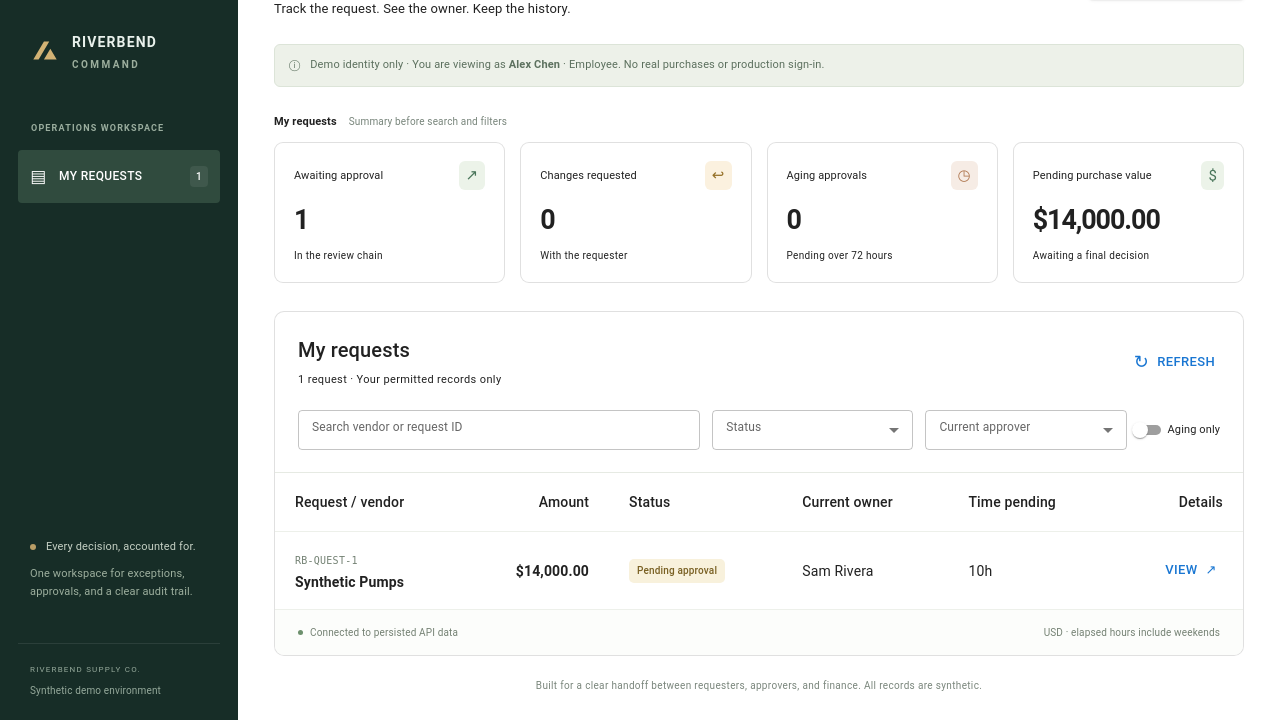
Test: keeps nested editor focus in the drawer after cancellation
(page scrolled)
Click the button with aria-label "View Synthetic Pumps request". click: x=1191, y=571
box: [1159, 555, 1223, 586]
(page scrolled)
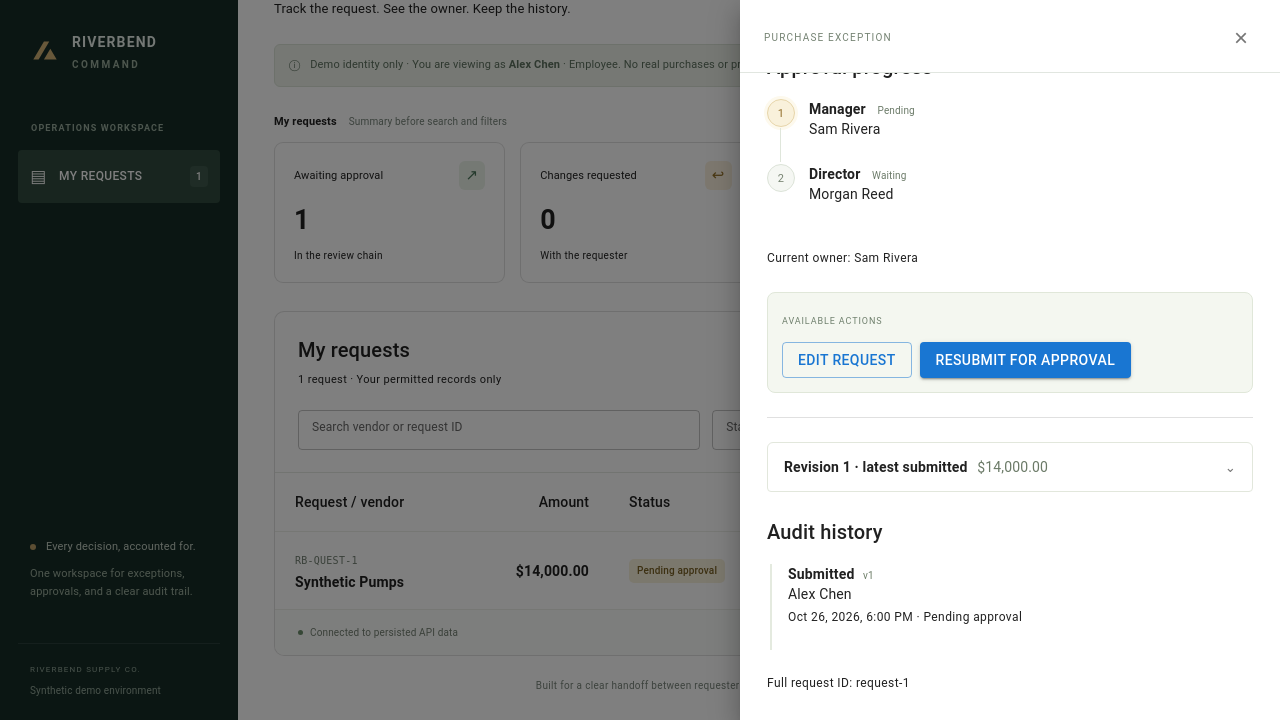
Click the button "Edit request". click: x=847, y=360
box: [782, 342, 912, 378]
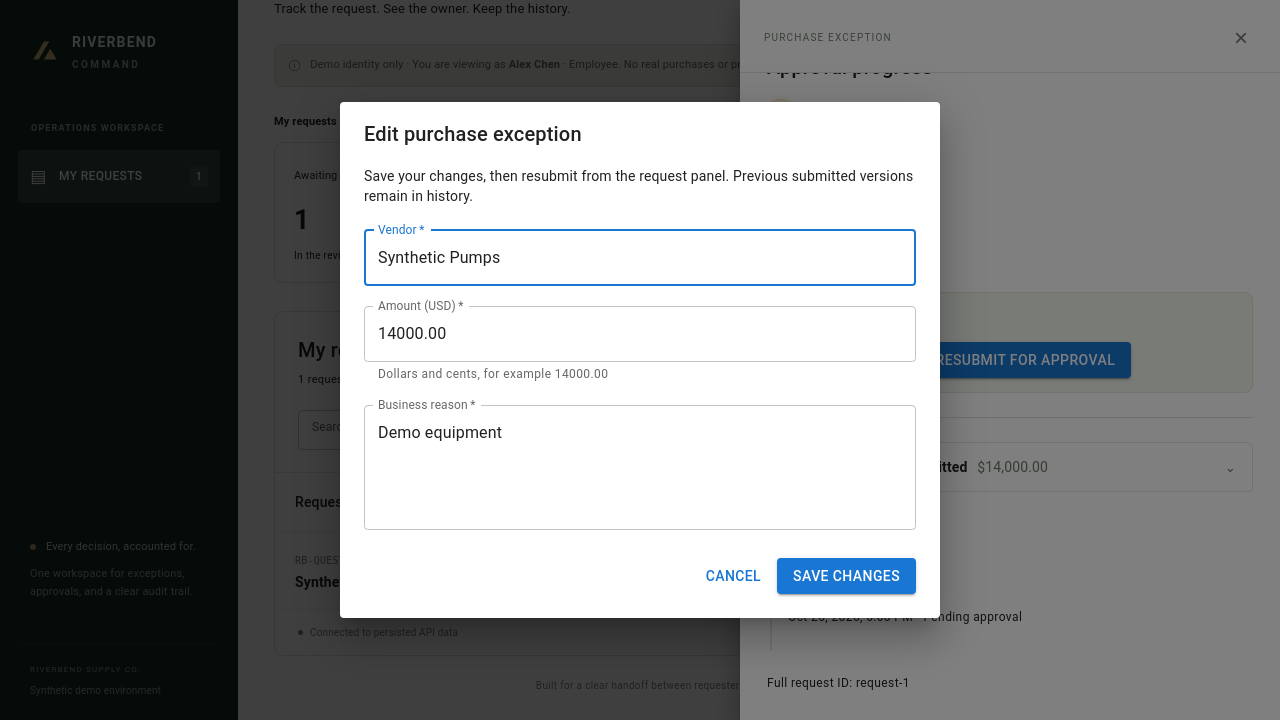
Result: the dialog "Edit purchase exception" is shown at [340, 102, 940, 618]
Click the button "Cancel". click: x=733, y=576
box: [698, 558, 769, 594]
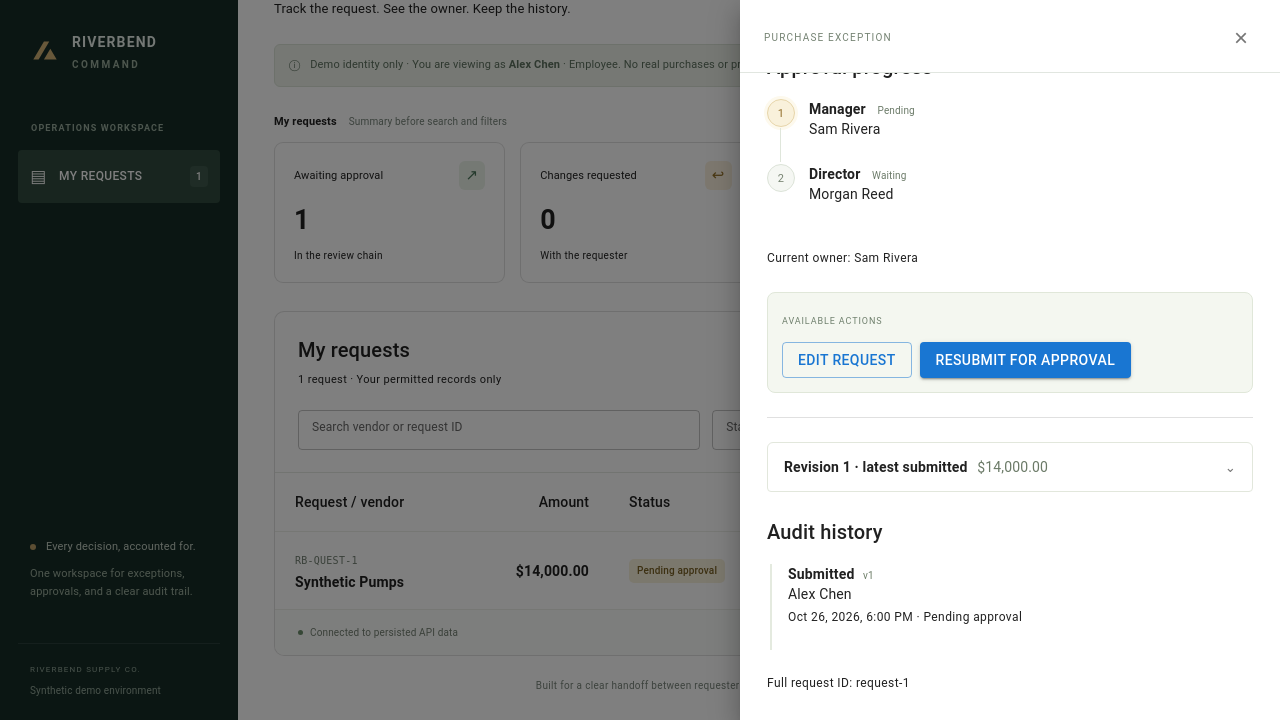
Result: the heading "Edit purchase exception" is gone
